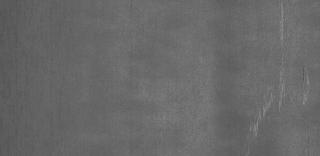silk spot: (236, 17, 318, 142)
